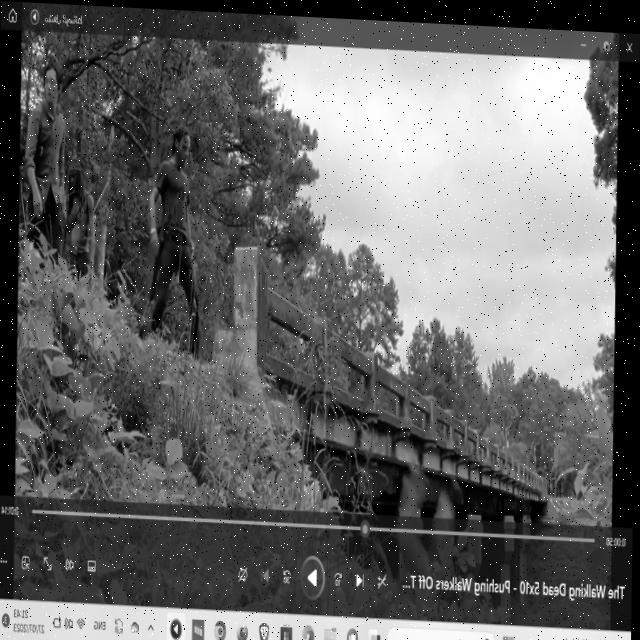human: (172, 125, 193, 165), (42, 64, 61, 100), (67, 157, 81, 192)
